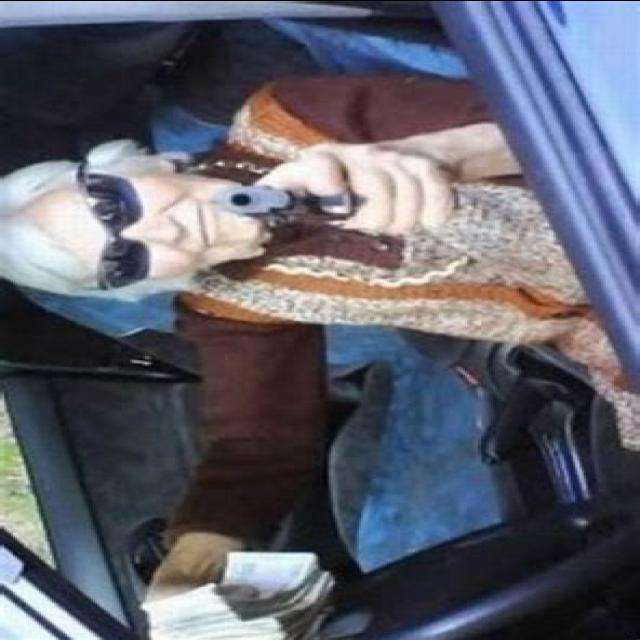weapons: (199, 165, 470, 229)
